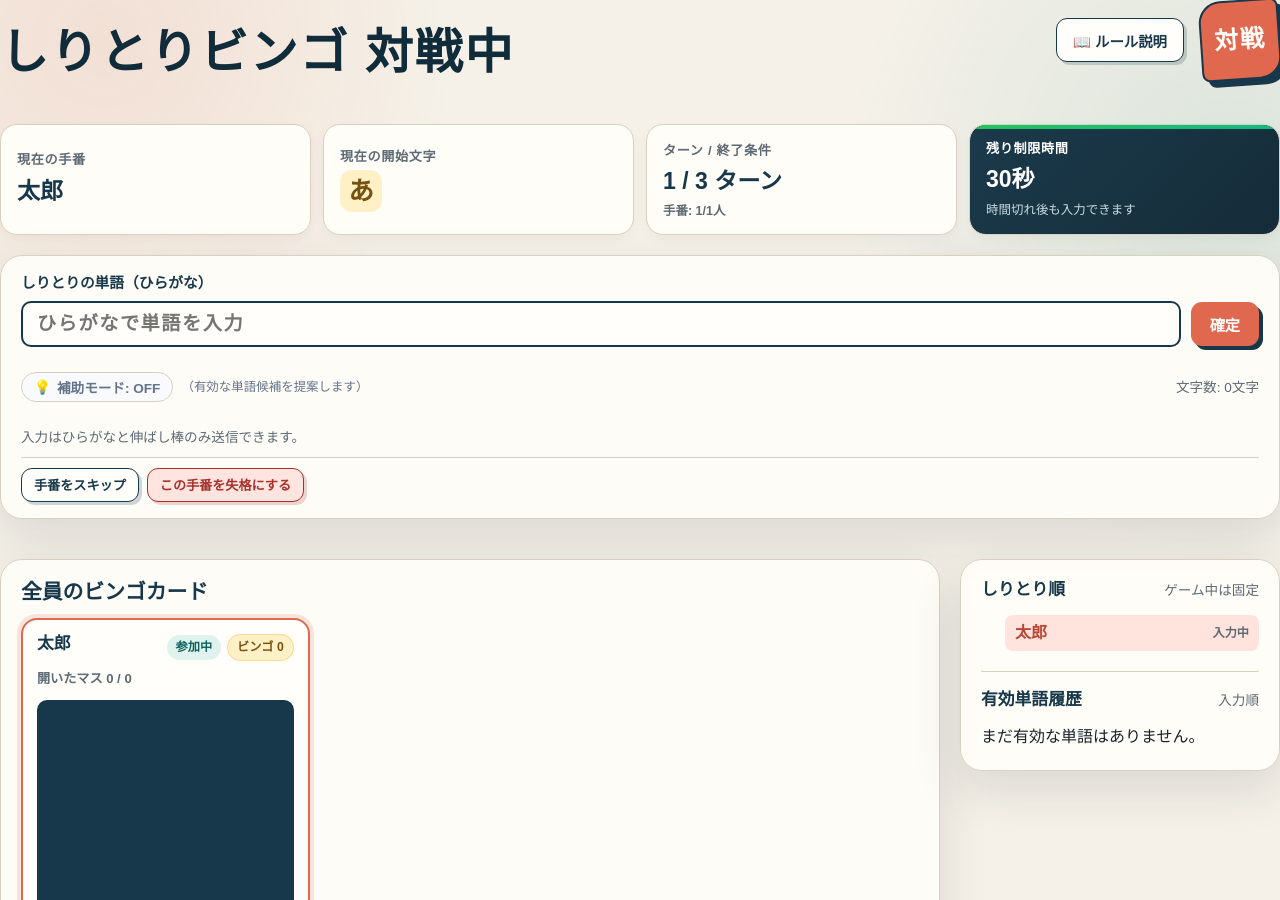
Test: playingView タイマー・時間同期 › ルール説明ボタンを押すとルール説明モーダルが表示される
Click the button "📖 ルール説明": (1120, 40) [1056,18,1184,62]
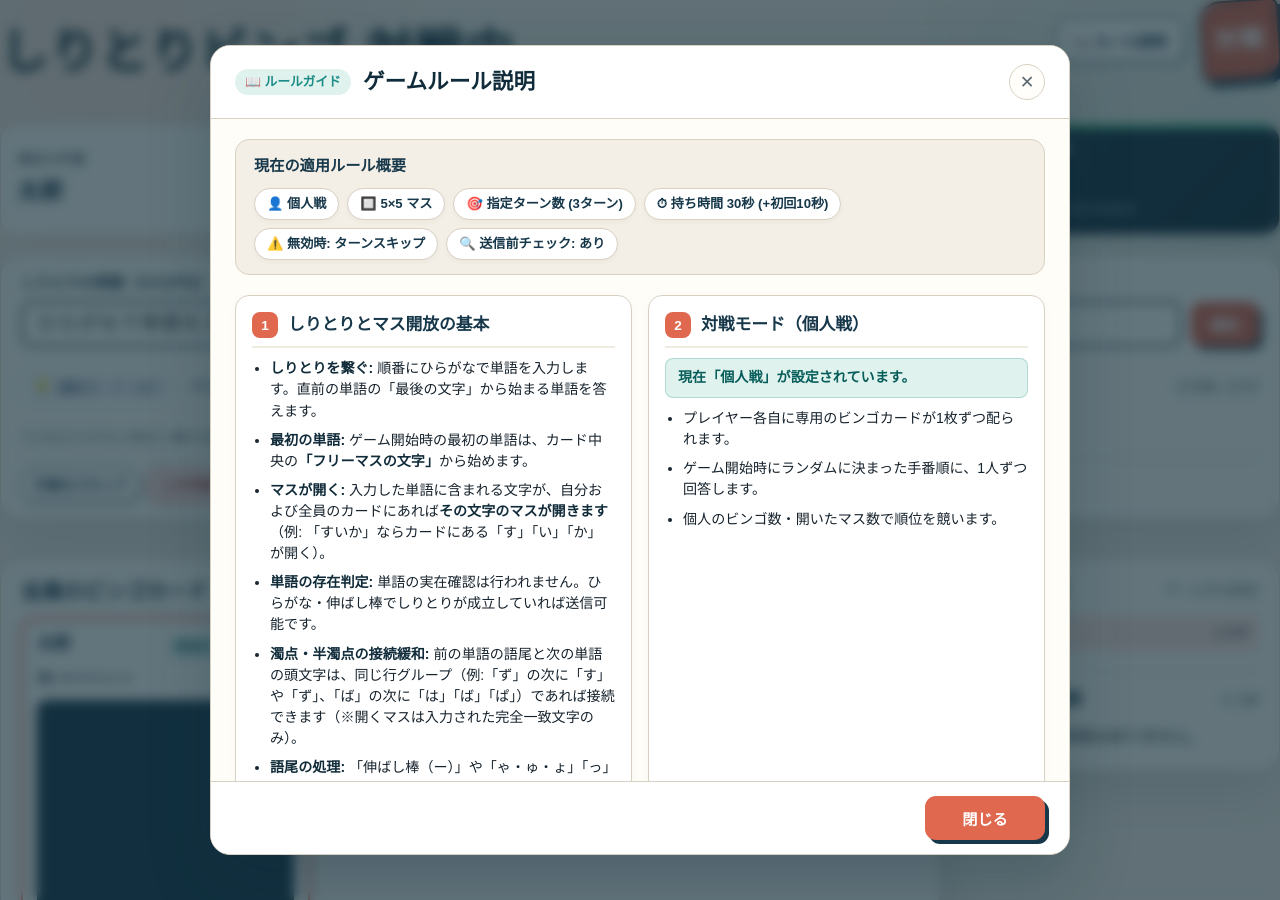
Expected: the dialog with class "rule-modal-backdrop" is shown
Expected: the dialog with class "rule-modal-backdrop" shows "ゲームルール説明", [363,69,535,94]
